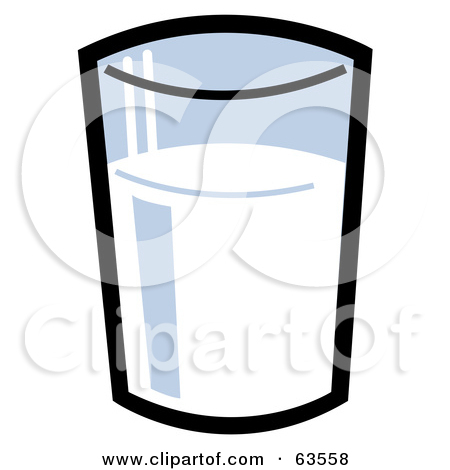glass of milk: (106, 79, 363, 422)
